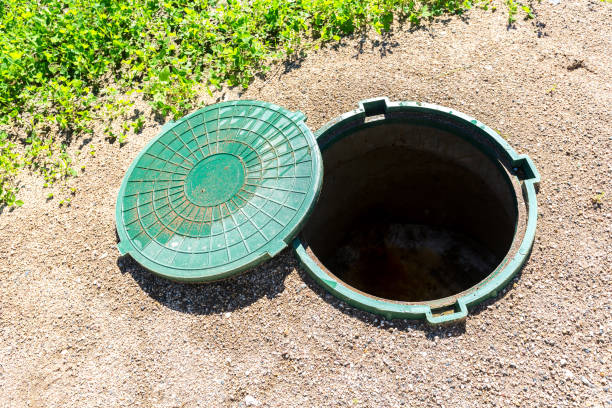open_manhole: (308, 92, 536, 321)
